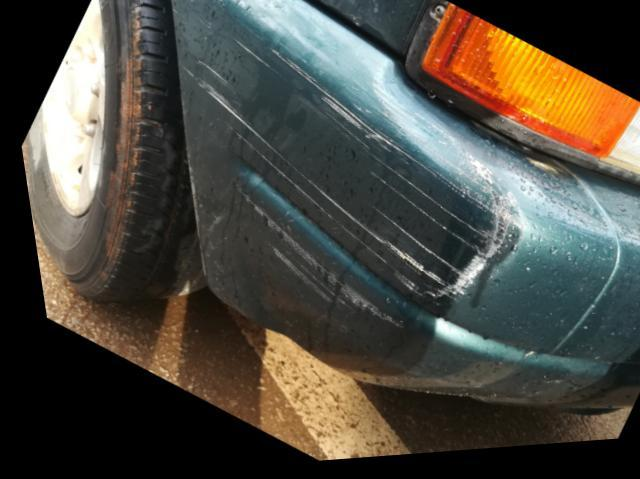scratch: (186, 32, 522, 335)
